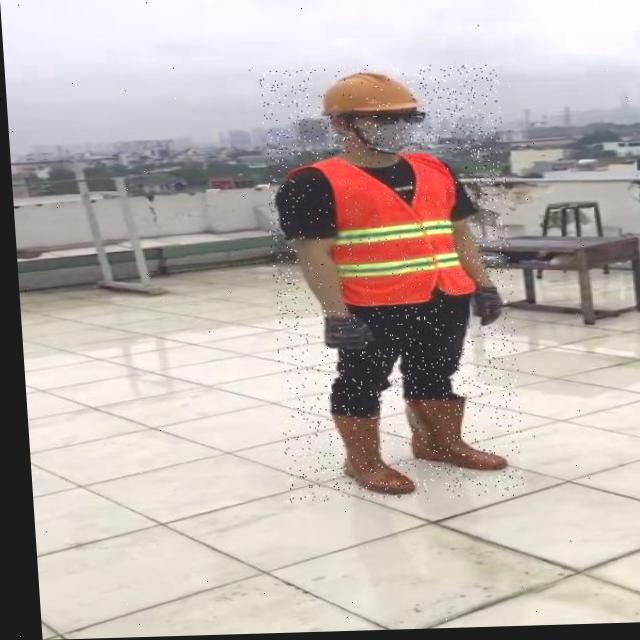Gloves: (317, 315, 371, 353), (468, 288, 499, 329)
Helmet: (317, 72, 424, 121)
Safety-Boot: (398, 394, 500, 475), (325, 410, 408, 498)
Safety-Vest: (273, 149, 477, 312)
